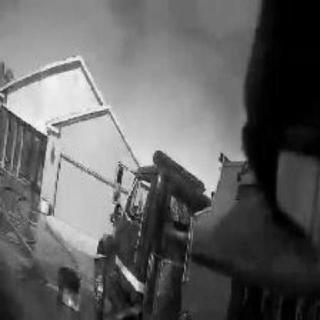other: (109, 147, 193, 280)
